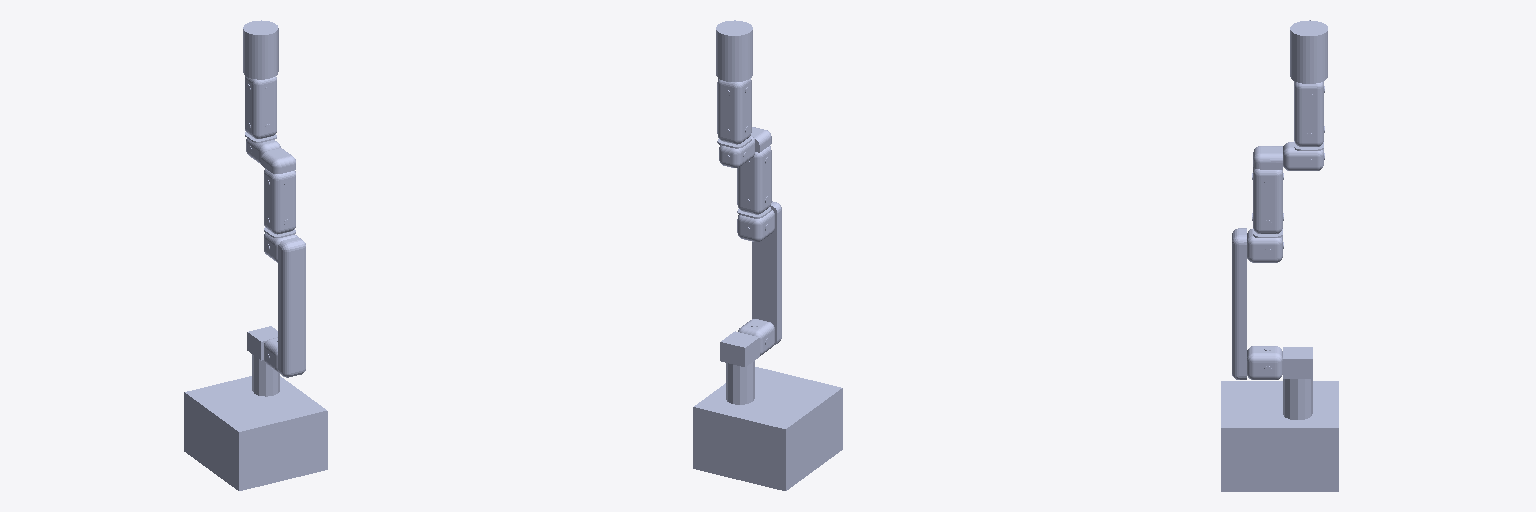
The robot description file, URDF, robot "redhawk":
<robot
  name="redhawk">
  <link name="world"/>
  <link
    name="base_link">
    <inertial>
      <origin
        xyz="-0.242696775784451 -0.0630818724626695 0.123350574572946"
        rpy="0 0 0" />
      <mass
        value="190.807213510781" />
      <inertia
        ixx="17.148394236804"
        ixy="-0.0193627735618233"
        ixz="0.236569669331495"
        iyy="40.1810883491995"
        iyz="-0.0155922676417971"
        izz="53.7814456090568" />
    </inertial>
    <visual>
      <origin
        xyz="0 0 0"
        rpy="0 0 0" />
      <geometry>
        <mesh
          filename="package://redhawk_moveit/meshes/base_link.STL" />
      </geometry>
      <material
        name="">
        <color
          rgba="0.792156862745098 0.819607843137255 0.933333333333333 1" />
      </material>
    </visual>
    <collision>
      <origin
        xyz="0 0 0"
        rpy="0 0 0" />
      <geometry>
        <mesh
          filename="package://redhawk_moveit/meshes/base_link.STL" />
      </geometry>
    </collision>
  </link>

  <joint name="fixed" type="fixed">
    <parent link="world"/>
    <child link="base_link"/>
  </joint>

  <link
    name="link1">
    <inertial>
      <origin
        xyz="-3.46944695195361E-18 8.130935723491E-05 -0.0381604608040978"
        rpy="0 0 0" />
      <mass
        value="0.784004998006185" />
      <inertia
        ixx="0.00105221140887869"
        ixy="-8.10783458797717E-20"
        ixz="-8.96418691774108E-20"
        iyy="0.00105532277356618"
        iyz="-3.85419139979644E-09"
        izz="0.001349932660026" />
    </inertial>
    <visual>
      <origin
        xyz="0 0 0"
        rpy="0 0 0" />
      <geometry>
        <mesh
          filename="package://redhawk_moveit/meshes/link1.STL" />
      </geometry>
      <material
        name="">
        <color
          rgba="0.792156862745098 0.819607843137255 0.933333333333333 1" />
      </material>
    </visual>
    <collision>
      <origin
        xyz="0 0 0"
        rpy="0 0 0" />
      <geometry>
        <mesh
          filename="package://redhawk_moveit/meshes/link1.STL" />
      </geometry>
    </collision>
  </link>

  <joint
    name="joint1"
    type="revolute">
    <origin
      xyz="0 0 0.396113"
      rpy="3.14159265358979 -9.08740001431347E-47 3.14159265358979" />
    <parent
      link="base_link" />
    <child
      link="link1" />
    <axis
      xyz="0 0 1" />
    <limit lower="-3.49" upper="3.49" effort="1000" velocity="0.5"/>
  </joint>

  <link
    name="link2">
    <inertial>
      <origin
        xyz="-1.94289029309402E-16 0.155455741173879 -0.124534060356386"
        rpy="0 0 0" />
      <mass
        value="3.74499800319706" />
      <inertia
        ixx="0.110285859722925"
        ixy="1.20796220160134E-16"
        ixz="-1.76603380418917E-17"
        iyy="0.0105248162125277"
        iyz="0.015057589986012"
        izz="0.105565156784639" />
    </inertial>
    <visual>
      <origin
        xyz="0 0 0"
        rpy="0 0 0" />
      <geometry>
        <mesh
          filename="package://redhawk_moveit/meshes/link2.STL" />
      </geometry>
      <material
        name="">
        <color
          rgba="0.792156862745098 0.819607843137255 0.933333333333333 1" />
      </material>
    </visual>
    <collision>
      <origin
        xyz="0 0 0"
        rpy="0 0 0" />
      <geometry>
        <mesh
          filename="package://redhawk_moveit/meshes/link2.STL" />
      </geometry>
    </collision>
  </link>

  <joint
    name="joint2"
    type="revolute">
    <origin
      xyz="0 -0.04826 -0.0381"
      rpy="-1.5707963267949 -1.17961196366423E-15 0" />
    <parent
      link="link1" />
    <child
      link="link2" />
    <axis
      xyz="0 0 1" />
    <limit lower="-1.57" upper="1.57" effort="1000" velocity="0.5"/>
  </joint>

  <link
    name="link3">
    <inertial>
      <origin
        xyz="-1.3878E-17 -0.0027083 -0.062451"
        rpy="0 0 0" />
      <mass
        value="1.185" />
      <inertia
        ixx="0.0023346"
        ixy="-2.2057E-19"
        ixz="2.639E-19"
        iyy="0.0022189"
        iyz="-3.3525E-05"
        izz="0.0019087" />
    </inertial>
    <visual>
      <origin
        xyz="0 0 0"
        rpy="0 0 0" />
      <geometry>
        <mesh
          filename="package://redhawk_moveit/meshes/link3.STL" />
      </geometry>
      <material
        name="">
        <color
          rgba="0.79216 0.81961 0.93333 1" />
      </material>
    </visual>
    <collision>
      <origin
        xyz="0 0 0"
        rpy="0 0 0" />
      <geometry>
        <mesh
          filename="package://redhawk_moveit/meshes/link3.STL" />
      </geometry>
    </collision>
  </link>

  <joint
    name="joint3"
    type="revolute">
    <origin
      xyz="0 0.4445 -0.126238"
      rpy="3.14159265358979 6.93889390390723E-17 0" />
    <parent
      link="link2" />
    <child
      link="link3" />
    <axis
      xyz="0 0 -1" />
	<limit lower="-3.14" upper="3.14" effort="1000" velocity="0.5"/>
  </joint>

  <link
    name="link4">
    <inertial>
      <origin
        xyz="-2.42861286636753E-17 0.0003313284114487 -0.15427332018414"
        rpy="0 0 0" />
      <mass
        value="2.87457615664221" />
      <inertia
        ixx="0.0234190289824234"
        ixy="1.41997682393559E-19"
        ixz="5.2151597957512E-18"
        iyy="0.0234055865436832"
        iyz="0.000128740619244794"
        izz="0.00446702614178736" />
    </inertial>
    <visual>
      <origin
        xyz="0 0 0"
        rpy="0 0 0" />
      <geometry>
        <mesh
          filename="package://redhawk_moveit/meshes/link4.STL" />
      </geometry>
      <material
        name="">
        <color
          rgba="0.792156862745098 0.819607843137255 0.933333333333333 1" />
      </material>
    </visual>
    <collision>
      <origin
        xyz="0 0 0"
        rpy="0 0 0" />
      <geometry>
        <mesh
          filename="package://redhawk_moveit/meshes/link4.STL" />
      </geometry>
    </collision>
  </link>

  <joint
    name="joint4"
    type="continuous">
    <origin
      xyz="0 -0.0546099999999999 -0.072898"
      rpy="-1.5707963267949 6.93889390390723E-17 -6.93889390390722E-16" />
    <parent
      link="link3" />
    <child
      link="link4" />
    <axis
      xyz="0 0 1" />
    <limit effort="1000" velocity="0.85"/>
  </joint>

  <link
    name="link5">
    <inertial>
      <origin
        xyz="0 -0.00280217821796258 -0.0743410955268955"
        rpy="0 0 0" />
      <mass
        value="0.997048418279697" />
      <inertia
        ixx="0.00207561674496563"
        ixy="3.01356436576703E-20"
        ixz="2.52091925823776E-19"
        iyy="0.00200100288765086"
        iyz="-5.15339131425933E-05"
        izz="0.00120168883221164" />
    </inertial>
    <visual>
      <origin
        xyz="0 0 0"
        rpy="0 0 0" />
      <geometry>
        <mesh
          filename="package://redhawk_moveit/meshes/link5.STL" />
      </geometry>
      <material
        name="">
        <color
          rgba="0.792156862745098 0.819607843137255 0.933333333333333 1" />
      </material>
    </visual>
    <collision>
      <origin
        xyz="0 0 0"
        rpy="0 0 0" />
      <geometry>
        <mesh
          filename="package://redhawk_moveit/meshes/link5.STL" />
      </geometry>
    </collision>
  </link>

  <joint
    name="joint5"
    type="revolute">
    <origin
      xyz="0 0.04826 -0.28194"
      rpy="1.5708 -6.9389E-16 -6.9389E-17" />
    <parent
      link="link4" />
    <child
      link="link5" />
    <axis
      xyz="0 0 -1" />
    <limit lower="-3.14" upper="3.14" effort="1000" velocity="0.85"/>
  </joint>

  <link
    name="link6">
    <inertial>
      <origin
        xyz="-1.04083408558608E-17 0 0.198830566523384"
        rpy="0 0 0" />
      <mass
        value="4.79143893371128" />
      <inertia
        ixx="0.07937014489573"
        ixy="-8.49903797787081E-19"
        ixz="2.30708915172358E-18"
        iyy="0.07937014489573"
        iyz="2.37951170760947E-19"
        izz="0.00877304530397157" />
    </inertial>
    <visual>
      <origin
        xyz="0 0 0"
        rpy="0 0 0" />
      <geometry>
        <mesh
          filename="package://redhawk_moveit/meshes/link6.STL" />
      </geometry>
      <material
        name="">
        <color
          rgba="0.792156862745098 0.819607843137255 0.933333333333333 1" />
      </material>
    </visual>
    <collision>
      <origin
        xyz="0 0 0"
        rpy="0 0 0" />
      <geometry>
        <mesh
          filename="package://redhawk_moveit/meshes/link6.STL" />
      </geometry>
    </collision>
  </link>

  <joint
    name="joint6"
    type="continuous">
    <origin
      xyz="0 -0.484165 -0.0927862"
      rpy="-1.5707963267949 6.93889390390723E-17 -9.71445146547011E-16" />
    <parent
      link="link5" />
    <child
      link="link6" />
    <axis
      xyz="0 0 1" />
    <limit effort="1000" velocity="0.85"/>
  </joint>

  <transmission name="trans1">
    <type>transmission_interface/SimpleTransmission</type>
    <actuator name="act1">
      <mechanicalReduction>1</mechanicalReduction>
      <hardwareInterface>PositionJointInterface</hardwareInterface>
    </actuator>
    <joint name="joint1">
      <hardwareInterface>hardware_interface/PositionJointInterface</hardwareInterface>
    </joint>
  </transmission>

  <transmission name="trans2">
    <type>transmission_interface/SimpleTransmission</type>
    <actuator name="act2">
      <mechanicalReduction>1</mechanicalReduction>
      <hardwareInterface>PositionJointInterface</hardwareInterface>
    </actuator>
    <joint name="joint2">
      <hardwareInterface>hardware_interface/PositionJointInterface</hardwareInterface>
    </joint>
  </transmission>

  <transmission name="trans3">
    <type>transmission_interface/SimpleTransmission</type>
    <actuator name="act3">
      <mechanicalReduction>1</mechanicalReduction>
      <hardwareInterface>PositionJointInterface</hardwareInterface>
    </actuator>
    <joint name="joint3">
      <hardwareInterface>hardware_interface/PositionJointInterface</hardwareInterface>
    </joint>
  </transmission>

  <transmission name="trans4">
    <type>transmission_interface/SimpleTransmission</type>
    <actuator name="act4">
      <mechanicalReduction>1</mechanicalReduction>
      <hardwareInterface>PositionJointInterface</hardwareInterface>
    </actuator>
    <joint name="joint4">
      <hardwareInterface>hardware_interface/PositionJointInterface</hardwareInterface>
    </joint>
  </transmission>

  <transmission name="trans5">
    <type>transmission_interface/SimpleTransmission</type>
    <actuator name="act5">
      <mechanicalReduction>1</mechanicalReduction>
      <hardwareInterface>PositionJointInterface</hardwareInterface>
    </actuator>
    <joint name="joint5">
      <hardwareInterface>hardware_interface/PositionJointInterface</hardwareInterface>
    </joint>
  </transmission>

  <transmission name="trans6">
    <type>transmission_interface/SimpleTransmission</type>
    <actuator name="act6">
      <mechanicalReduction>1</mechanicalReduction>
      <hardwareInterface>PositionJointInterface</hardwareInterface>
    </actuator>
    <joint name="joint6">
      <hardwareInterface>hardware_interface/PositionJointInterface</hardwareInterface>
    </joint>
  </transmission>

  <gazebo>
    <plugin name="gazebo_ros_control" filename="libgazebo_ros_control.so">
      <robotNamespace>/redhawk</robotNamespace>
    </plugin>
    <plugin name="joint_state_publisher"
	filename="libgazebo_ros_joint_state_publisher.so">
      <jointName>joint1,joint2,joint3,joint4,joint5,joint6</jointName>
    </plugin>
  </gazebo>

</robot>

--- Facts derived from the render (not from the file) ---
Views: 3 orthographic renders of the robot side by side, from view 1: azimuth 30°, elevation 25°; view 2: azimuth 150°, elevation 25°; view 3: azimuth 270°, elevation 25°.
Model redhawk with 8 links and 7 joints (4 revolute, 2 continuous, 1 fixed), rooted at world, posed all joints at 0.
Visible links, largest first — view 1: base_link, link2, link6, link4, link1, link5; view 2: base_link, link6, link2, link4, link1, link3, link5; view 3: base_link, link6, link2, link4, link3, link5, link1.
Boxes of the visible links, bbox=[...] form: base_link: bbox=[184, 354, 327, 490]; link2: bbox=[264, 237, 305, 377]; link6: bbox=[243, 20, 278, 138]; link4: bbox=[261, 148, 295, 234]; link1: bbox=[247, 326, 277, 360]; link5: bbox=[245, 132, 280, 163]; base_link: bbox=[693, 361, 842, 490]; link6: bbox=[716, 20, 752, 144]; link2: bbox=[738, 201, 781, 355]; link4: bbox=[737, 127, 771, 214]; link1: bbox=[720, 331, 759, 366]; link3: bbox=[737, 207, 774, 241]; link5: bbox=[717, 136, 754, 167]; base_link: bbox=[1221, 379, 1338, 491]; link6: bbox=[1290, 20, 1327, 146]; link2: bbox=[1232, 228, 1282, 379]; link4: bbox=[1252, 146, 1283, 233]; link3: bbox=[1247, 229, 1283, 262]; link5: bbox=[1283, 141, 1324, 170]; link1: bbox=[1283, 347, 1312, 378].
Size in the robot's own frame: 0.3762 by 0.4013 by 1.7 metres.
Meshes: 7 distinct files referenced, 7 mesh visuals loaded (7 binary STL).